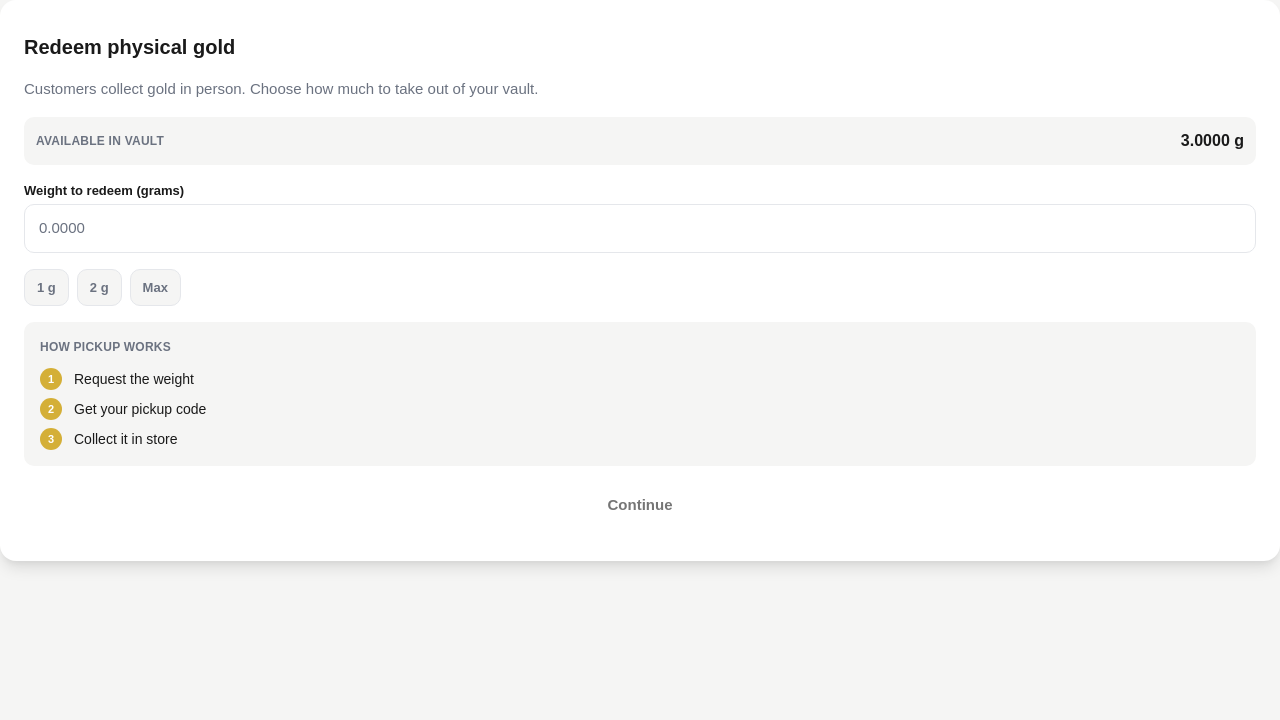
Test case: RedeemFlow › confirms, debits through the API and shows the pickup code
Type "1.25" into the field labelled "Weight to redeem (grams)".
click(640, 228); type("1.25")  # box [37, 205, 1243, 252]
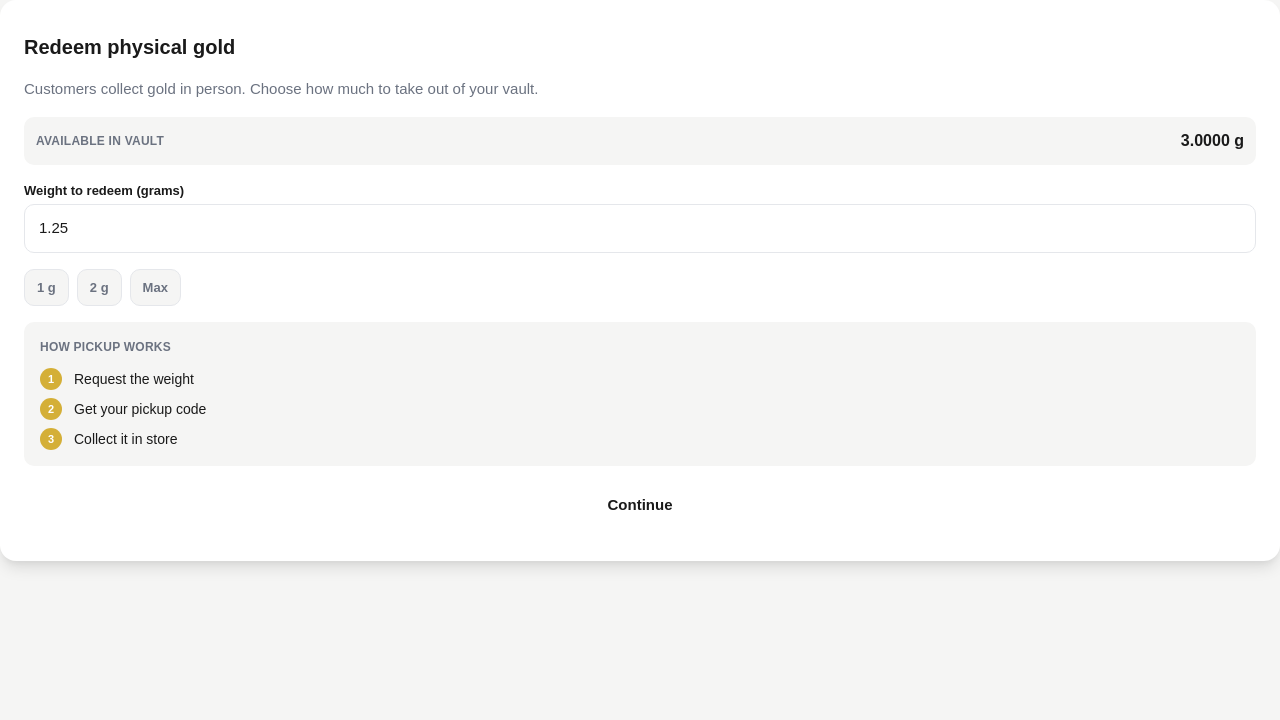
Now the button "Continue" is enabled
Click the button "Continue".
click(640, 505)  # box [24, 482, 1256, 528]
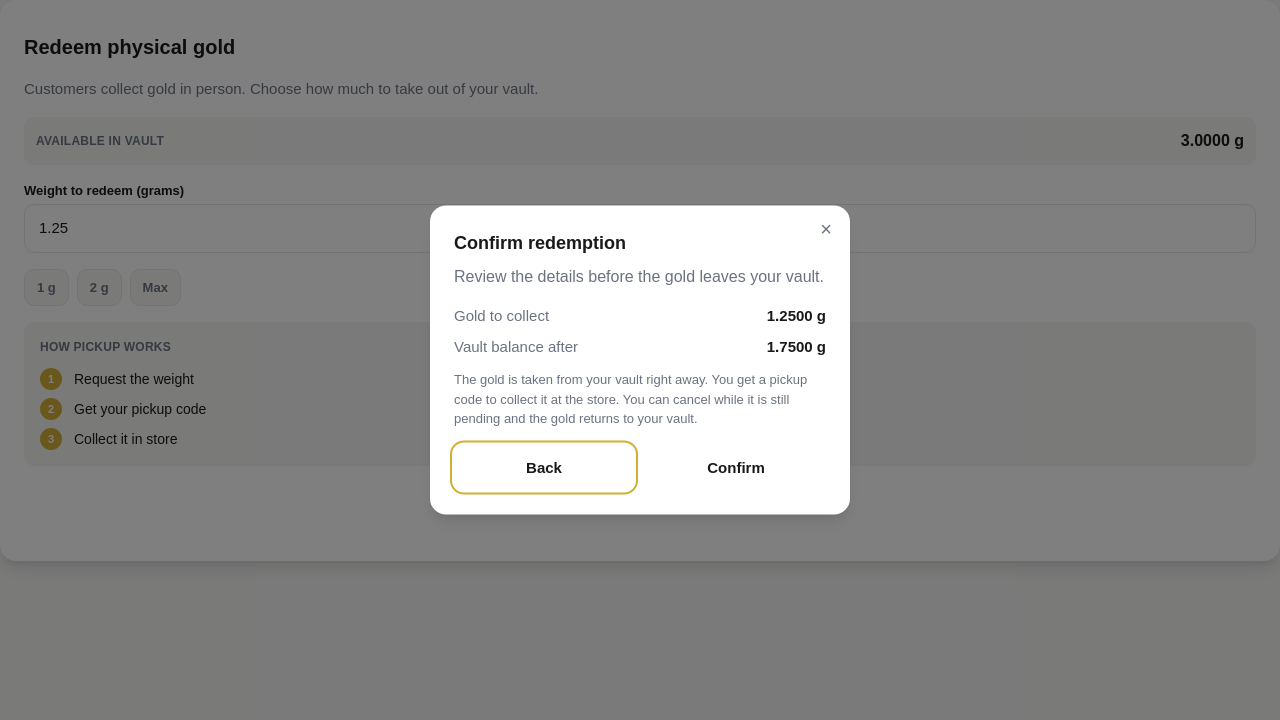
Now the heading "Confirm redemption" is shown, box [454, 232, 626, 252]
Now the text "1.2500 g" is shown, box [767, 304, 826, 327]
Now the text "1.7500 g" is shown, box [767, 335, 826, 358]
Click the button "Confirm".
click(736, 467)  # box [646, 444, 826, 490]
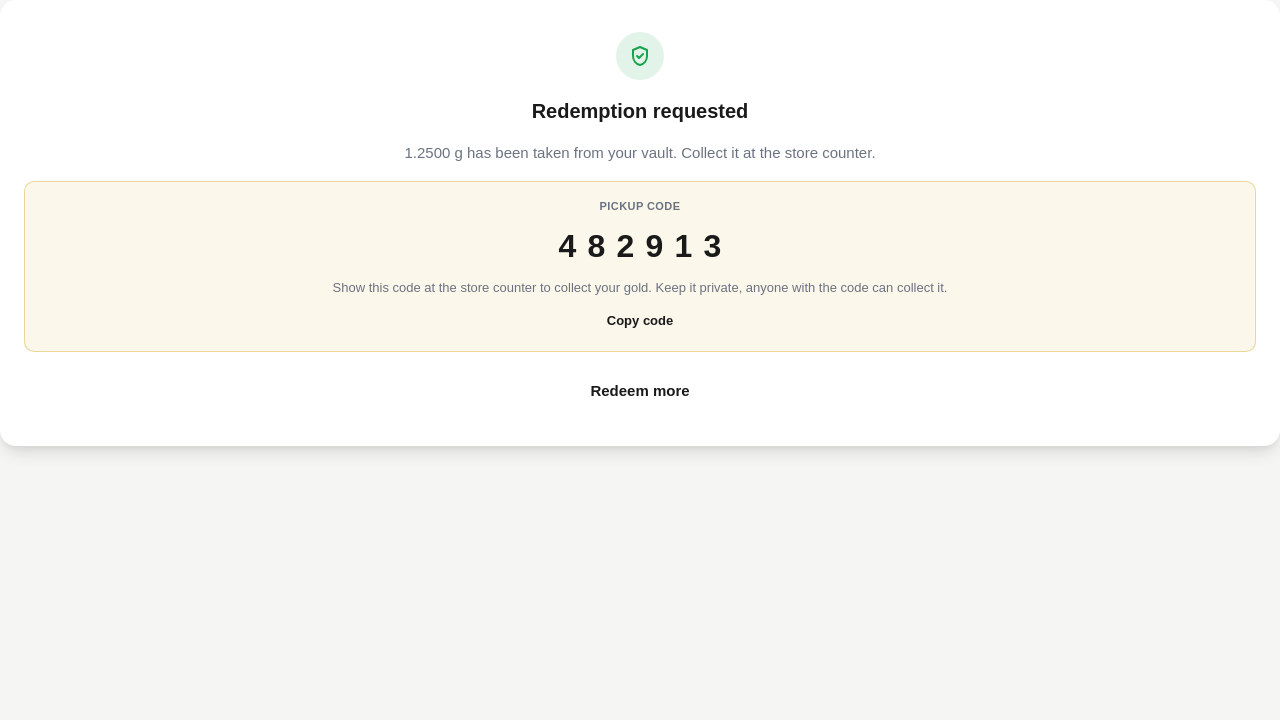
Now the heading "Redemption requested" is shown, box [532, 96, 748, 126]
Now the text "482913" is shown, box [547, 222, 733, 270]
